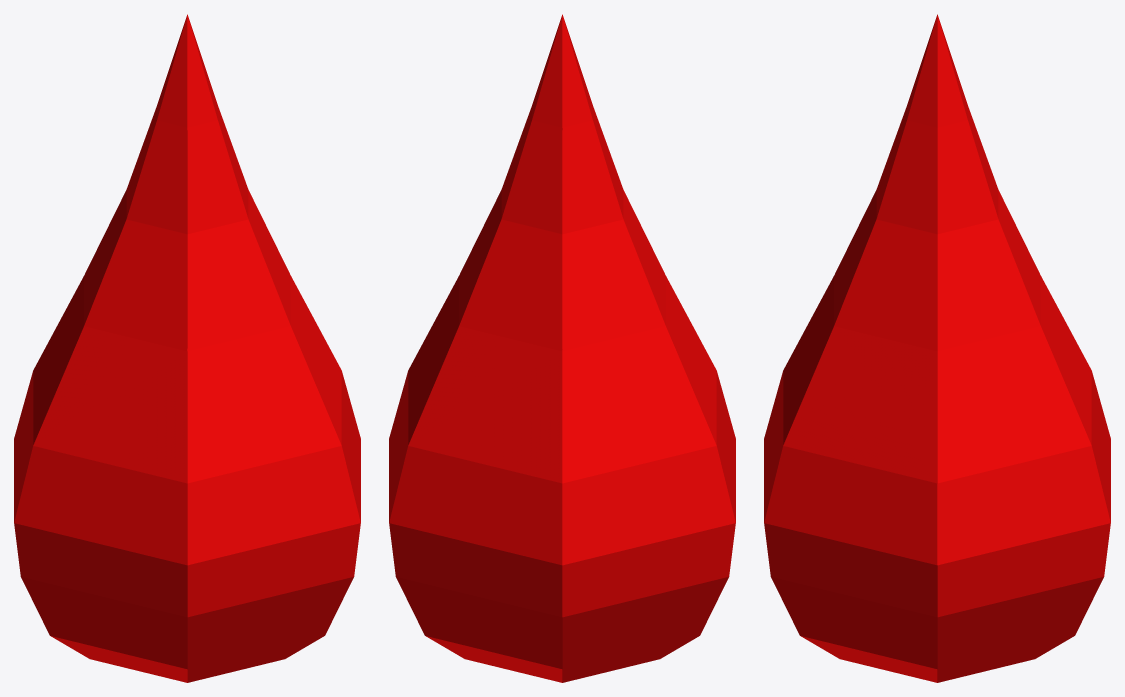
File: Proto_Droplet_01.fbx
3 renders of one model, left to right at view 1: azimuth 30°, elevation 25°; view 2: azimuth 150°, elevation 25°; view 3: azimuth 270°, elevation 25°, orthographic.
Parts seen in each view (by area): view 1: Proto_Droplet_01; view 2: Proto_Droplet_01; view 3: Proto_Droplet_01.
Part boxes in pixels (x1,y1,x2,y2): Proto_Droplet_01: (14, 14, 360, 682); Proto_Droplet_01: (389, 14, 735, 682); Proto_Droplet_01: (764, 14, 1110, 682).
Size of the model in its own units: 0.208 by 0.3643 by 0.1801.
